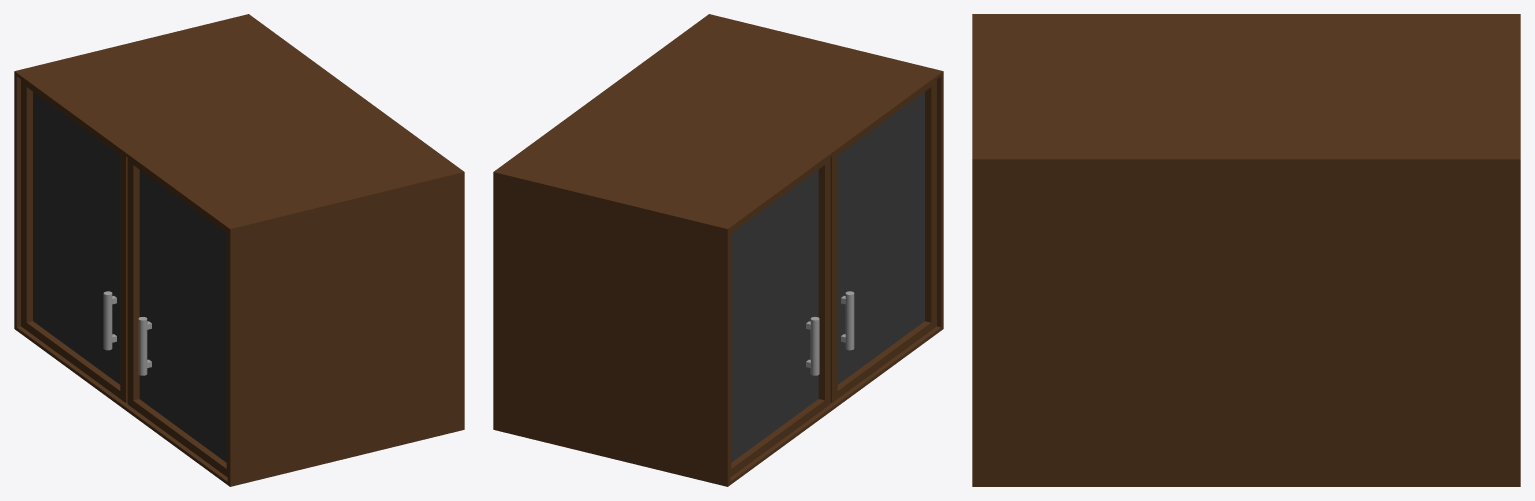
The model's file is Top 2.fbx.
3 renders of one model, left to right at view 1: azimuth 30°, elevation 25°; view 2: azimuth 150°, elevation 25°; view 3: azimuth 270°, elevation 25°, orthographic. The views are drawn at different scales.
Visible parts, largest first — view 1: Top 2; view 2: Top 2; view 3: Top 2.
Boxes of the visible parts, box(x1,y1,x2,y2) form: Top 2: box(14, 14, 464, 486); Top 2: box(493, 14, 943, 486); Top 2: box(972, 14, 1520, 486).
Bounding box in the file's own units: 62.88 × 65.9 × 100.
